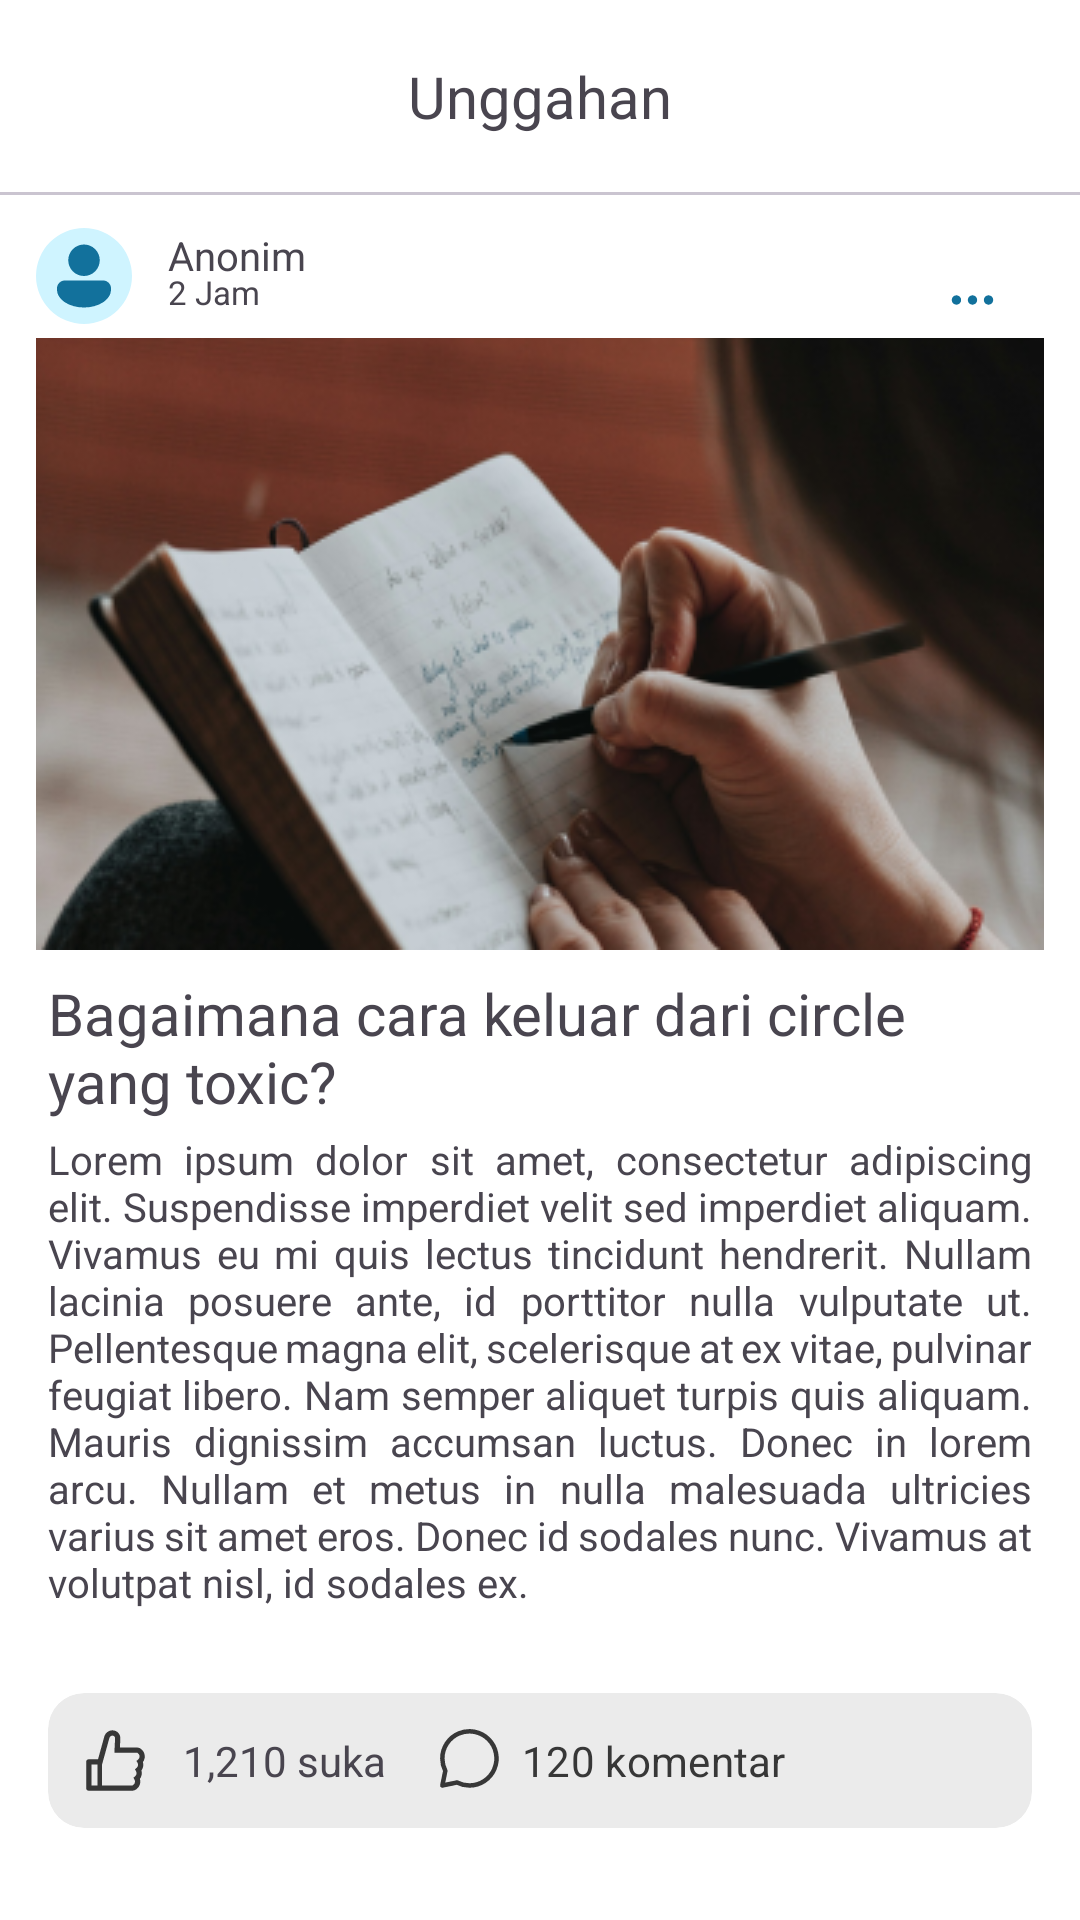

Where to tap for icons on this 1080*1920 app screen, as (x=x, y=y):
user: (x=84, y=276)
